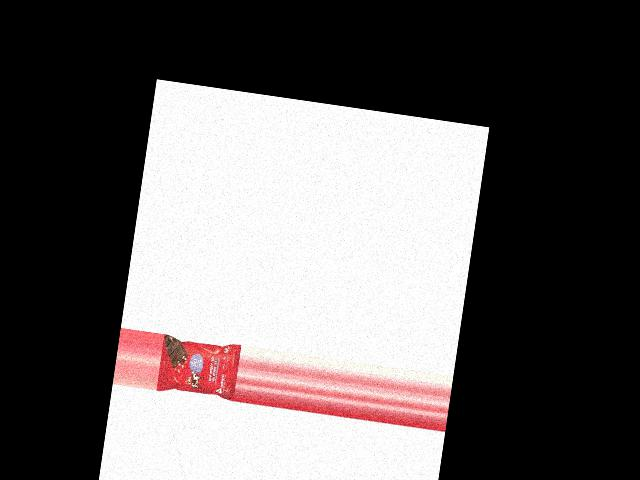chocolate: (156, 333, 242, 399)
